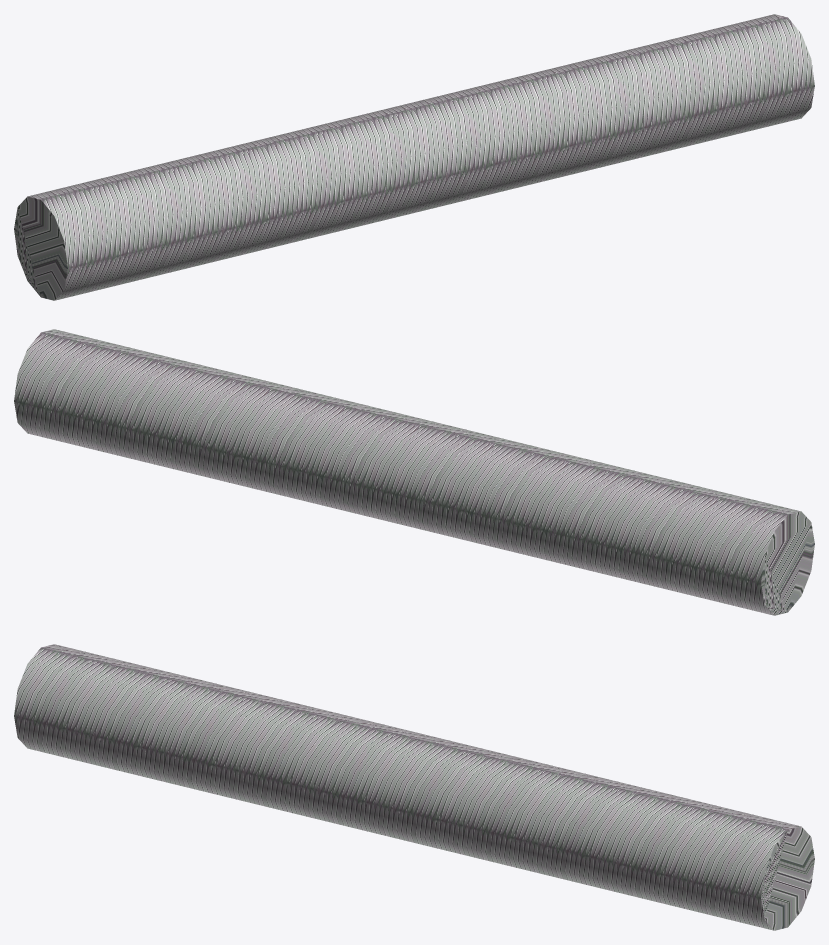
The model's file is Rope_SM.FBX.
The picture shows the model from 3 angles, top to bottom: view 1: azimuth 30°, elevation 25°; view 2: azimuth 150°, elevation 25°; view 3: azimuth 330°, elevation 25°; orthographic projection.
Visible parts, largest first — view 1: Rope_SM; view 2: Rope_SM; view 3: Rope_SM.
Boxes of the visible parts, x1,y1,x2,y2 form: Rope_SM: (14,14,814,300); Rope_SM: (14,329,814,615); Rope_SM: (14,644,814,930).
Bounding box in the file's own units: 100 × 12.5 × 12.5.
Materials: 1 (1 with a texture image).
